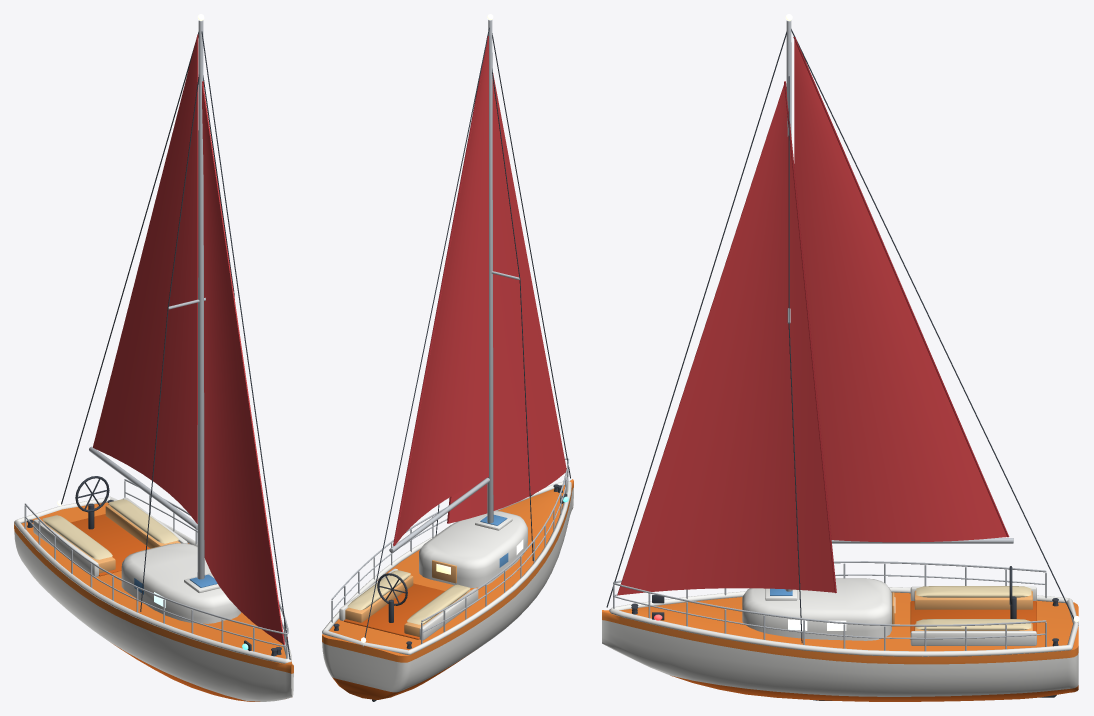
Rendered from veleiro_vela_vermelha.glb.
3 renders of one model, left to right at view 1: azimuth 30°, elevation 25°; view 2: azimuth 150°, elevation 25°; view 3: azimuth 270°, elevation 25°, orthographic. The views are drawn at different scales.
Parts seen in each view (by area): view 1: veleiro_vela_vermelha, vela_grande; view 2: veleiro_vela_vermelha, vela_grande, porta_cabine; view 3: veleiro_vela_vermelha, vela_grande.
Boxes of the visible parts, bbox=[...] form: veleiro_vela_vermelha: bbox=[14, 14, 293, 701]; vela_grande: bbox=[89, 34, 198, 529]; veleiro_vela_vermelha: bbox=[322, 14, 573, 701]; vela_grande: bbox=[389, 36, 489, 552]; porta_cabine: bbox=[432, 560, 456, 583]; veleiro_vela_vermelha: bbox=[602, 14, 1079, 701]; vela_grande: bbox=[793, 37, 1013, 543].
Size of the model in its own units: 3.02 by 14.57 by 9.2.
7 materials, 1 textured.
